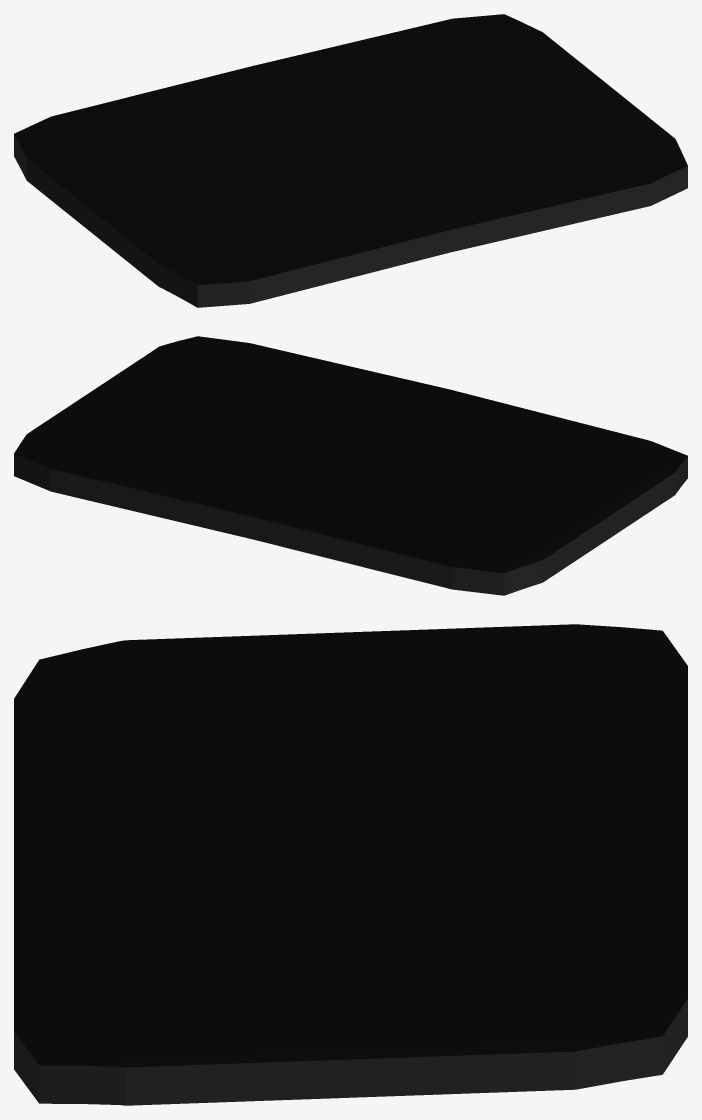
The model's file is mmpa.obj.
3 renders of one model, top to bottom at view 1: azimuth 30°, elevation 25°; view 2: azimuth 150°, elevation 25°; view 3: azimuth 270°, elevation 25°, orthographic. The views are drawn at different scales.
Parts seen in each view (by area): view 1: sunroof_translucent, sunroof; view 2: sunroof_translucent, sunroof; view 3: sunroof_translucent, sunroof.
Part boxes in pixels (x1,y1,x2,y2): sunroof_translucent: (14, 14, 687, 285); sunroof: (14, 134, 687, 307); sunroof_translucent: (14, 336, 687, 572); sunroof: (14, 454, 687, 595); sunroof_translucent: (14, 624, 687, 1067); sunroof: (14, 999, 687, 1105).
Size of the model in its own units: 0.6685 by 0.0536 by 0.4456.
